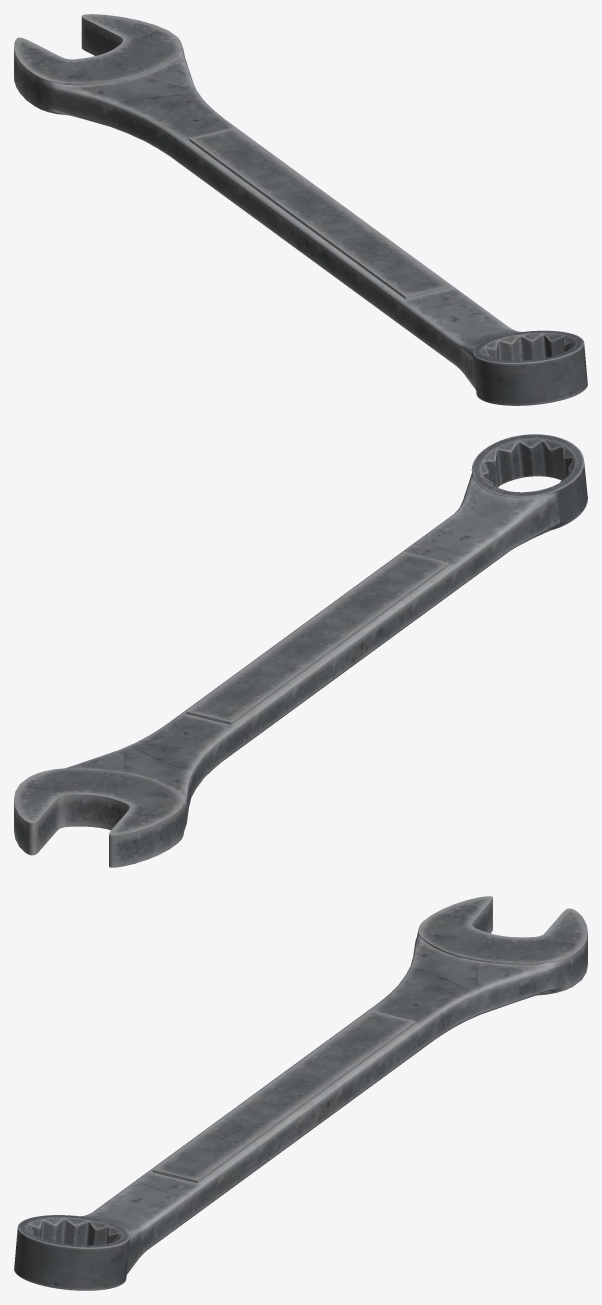
The model's file is combination_wrench.glb.
3 renders of one model, top to bottom at view 1: azimuth 30°, elevation 25°; view 2: azimuth 150°, elevation 25°; view 3: azimuth 330°, elevation 25°, orthographic.
Parts seen in each view (by area): view 1: combination_wrench; view 2: combination_wrench; view 3: combination_wrench.
Boxes of the visible parts, <box> form: combination_wrench: <box>14,14,587,405</box>; combination_wrench: <box>14,434,587,867</box>; combination_wrench: <box>14,896,587,1290</box>.
Size of the model in its own units: 0.0566 by 0.0215 by 0.337.
Materials: 1 (1 with a texture image).
